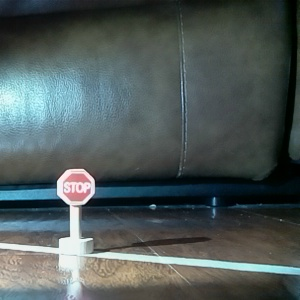stop sign: (54, 166, 98, 260)
